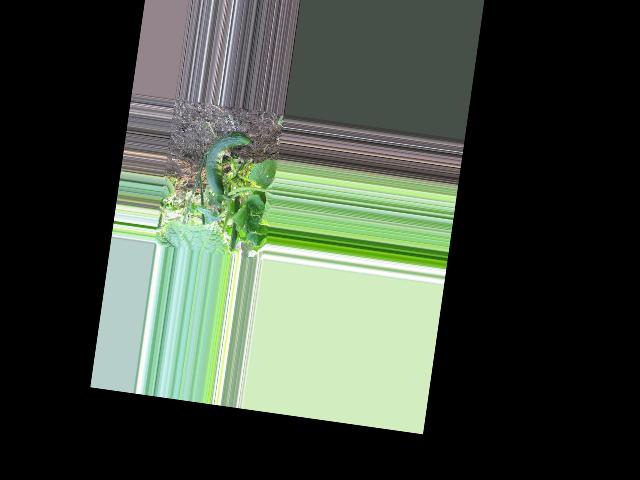cucumber: (201, 129, 251, 199)
